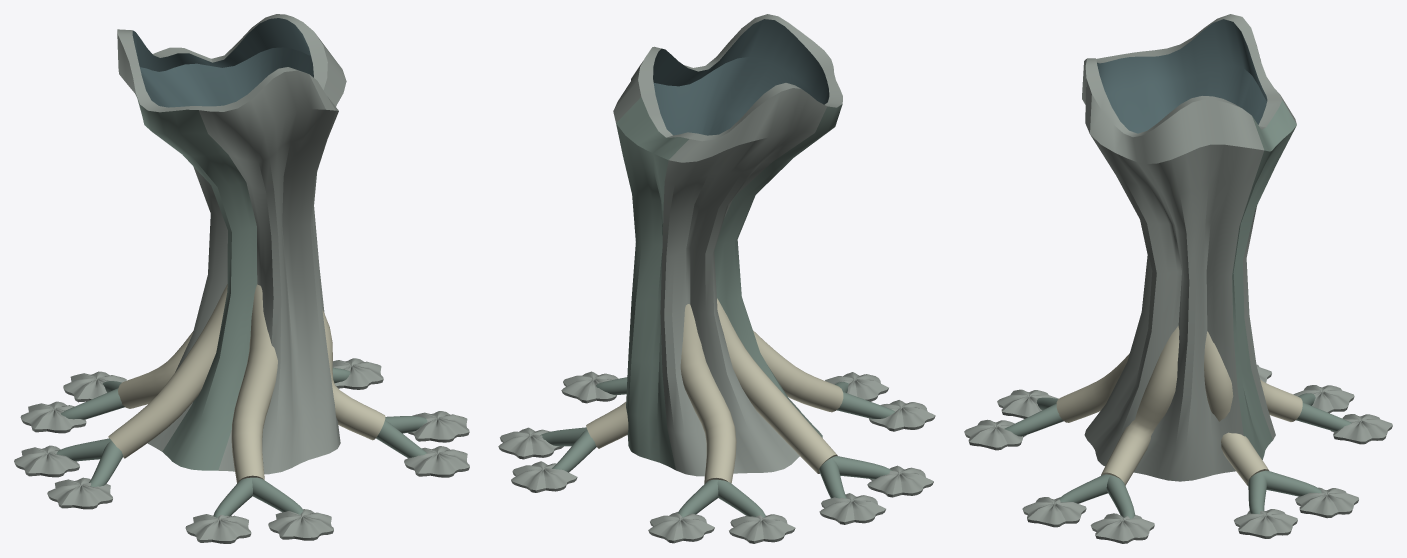
File: spore_chimney_stalk_lod0.glb
3 views of the same model, side by side, from view 1: azimuth 30°, elevation 25°; view 2: azimuth 150°, elevation 25°; view 3: azimuth 270°, elevation 25° (orthographic). The views are drawn at different scales.
Visible parts, largest first — view 1: LOD0_tissue, LOD0_tissue_mature, LOD0_calcite, LOD0_tissue_fold; view 2: LOD0_tissue, LOD0_tissue_mature, LOD0_calcite, LOD0_tissue_fold; view 3: LOD0_tissue, LOD0_tissue_mature, LOD0_tissue_fold, LOD0_calcite.
Boxes of the visible parts, box(x1,y1,x2,y2) form: LOD0_tissue: box(14, 14, 469, 543); LOD0_tissue_mature: box(56, 95, 427, 517); LOD0_calcite: box(108, 284, 385, 483); LOD0_tissue_fold: box(132, 18, 313, 107); LOD0_tissue: box(498, 14, 935, 543); LOD0_tissue_mature: box(540, 97, 894, 517); LOD0_calcite: box(586, 298, 843, 483); LOD0_tissue_fold: box(653, 19, 829, 135); LOD0_tissue: box(964, 14, 1392, 543); LOD0_tissue_mature: box(1004, 100, 1351, 518); LOD0_tissue_fold: box(1097, 19, 1267, 133); LOD0_calcite: box(1056, 325, 1302, 485).
Bounding box in the file's own units: 2.74 × 2.79 × 2.73.
